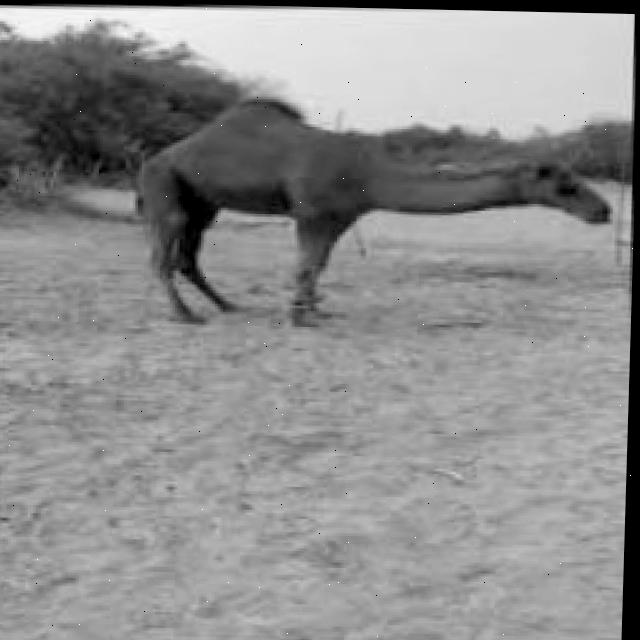Camel: (127, 91, 616, 334)
